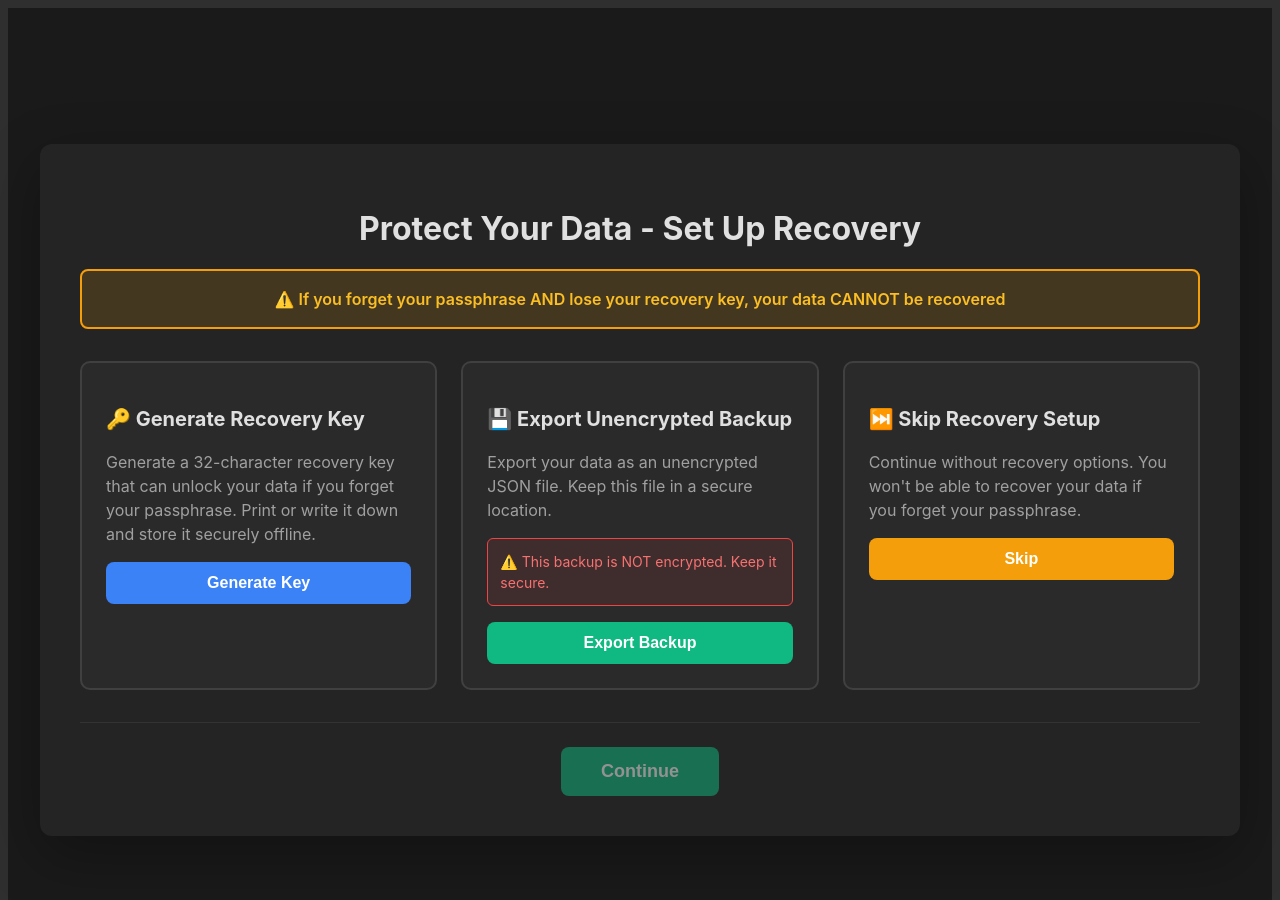
Test: RecoveryOptions › shows skip confirmation modal (AC4)
Click the button "Skip": [1021, 559] box [869,538,1174,580]
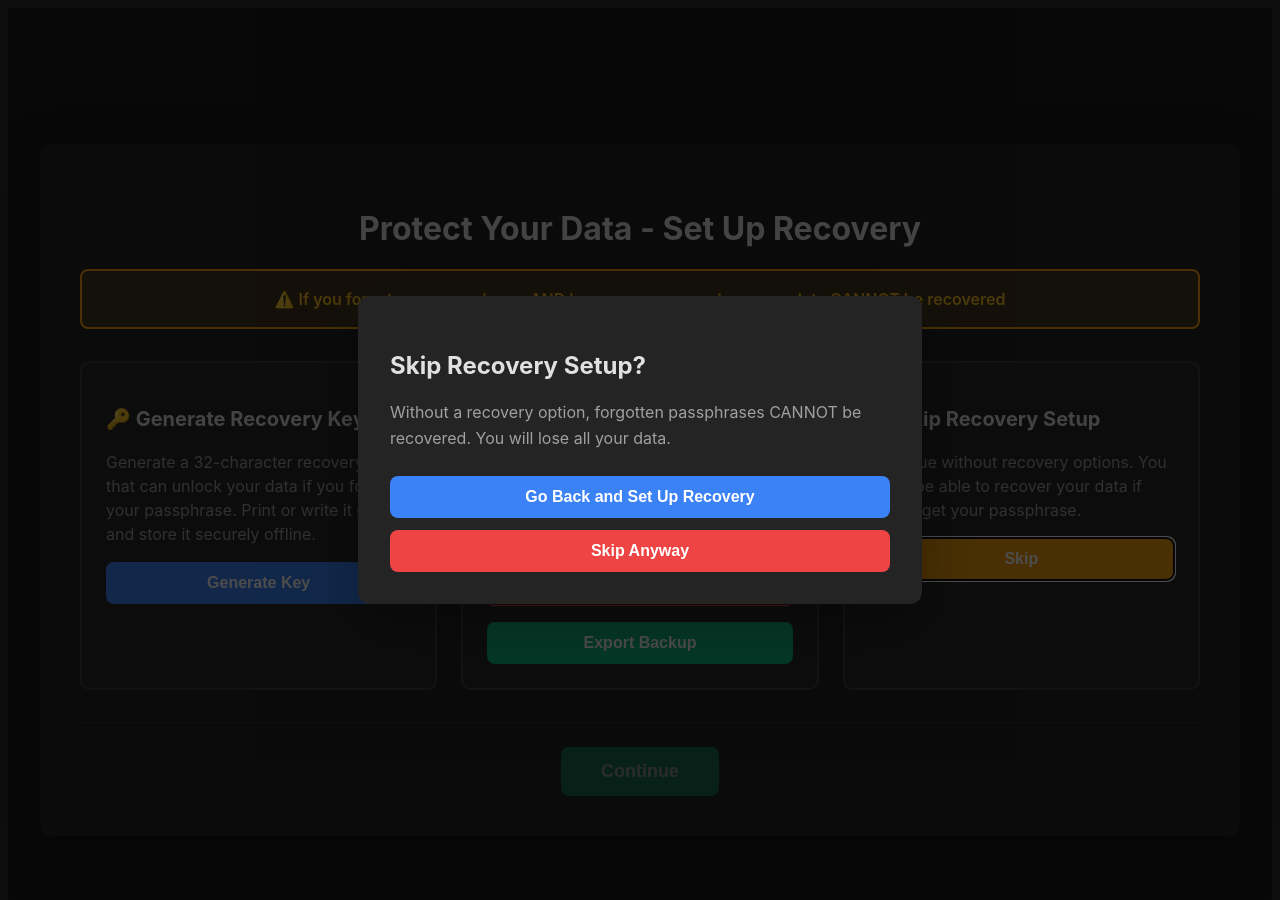
Result: the heading "Skip Recovery Setup?" is shown at [390,351,646,380]
Result: the text "Without a recovery option, forgotten passphrases CANNOT be recovered" is shown at [390,402,861,448]
Result: the button "Go Back and Set Up Recovery" is shown at [390,476,890,518]
